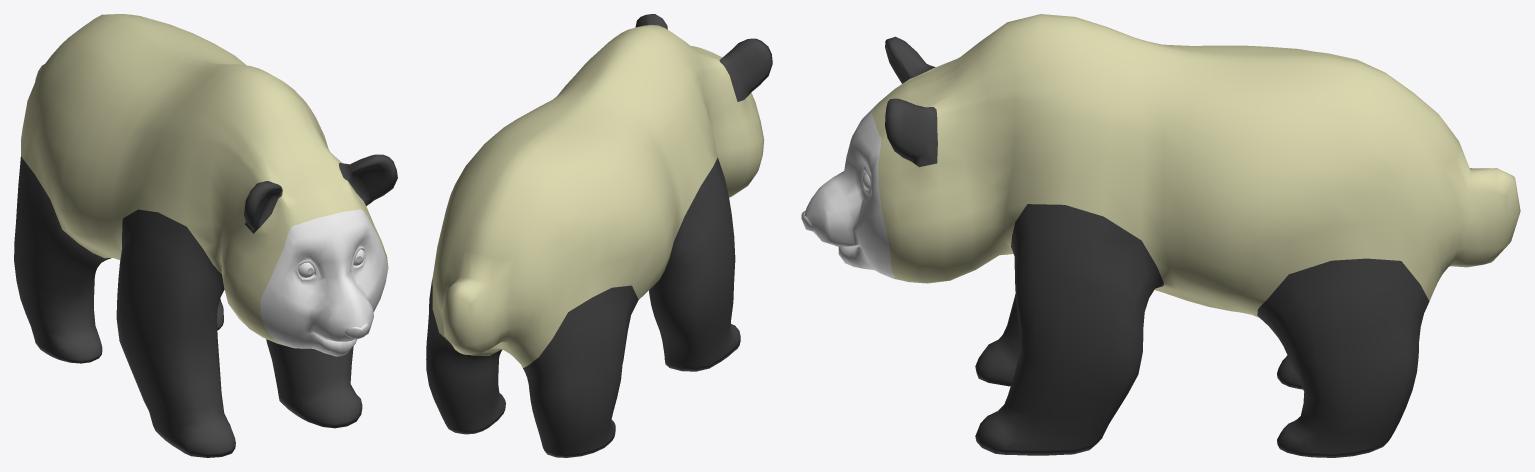
Rendered from CartoonPanda_FullUV.fbx.
3 views of the same model, side by side, from view 1: azimuth 30°, elevation 25°; view 2: azimuth 150°, elevation 25°; view 3: azimuth 270°, elevation 25° (orthographic). The views are drawn at different scales.
Visible parts, largest first — view 1: polySurface3; view 2: polySurface3; view 3: polySurface3.
Part boxes in pixels (x1,y1,x2,y2): polySurface3: (14, 14, 397, 457); polySurface3: (426, 14, 772, 457); polySurface3: (801, 14, 1520, 457).
Size of the model in its own units: 2.47 by 3.77 by 6.25.
